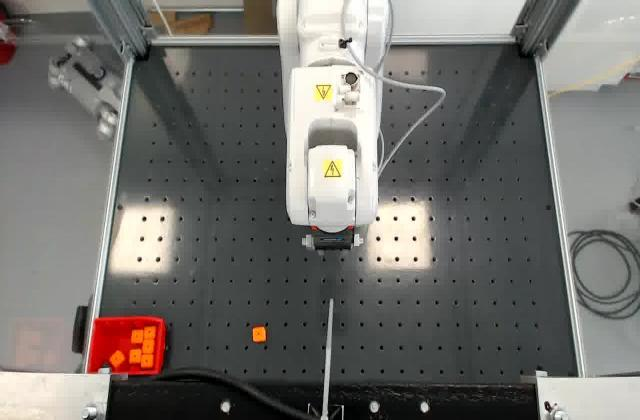cube: (252, 326, 266, 342)
